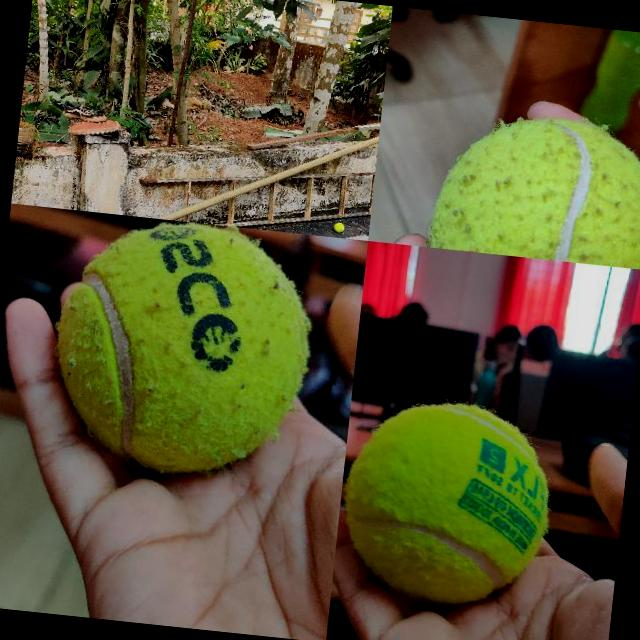Tennis Ball: (45, 210, 322, 486), (334, 393, 558, 614), (428, 107, 640, 269), (332, 221, 344, 232)
